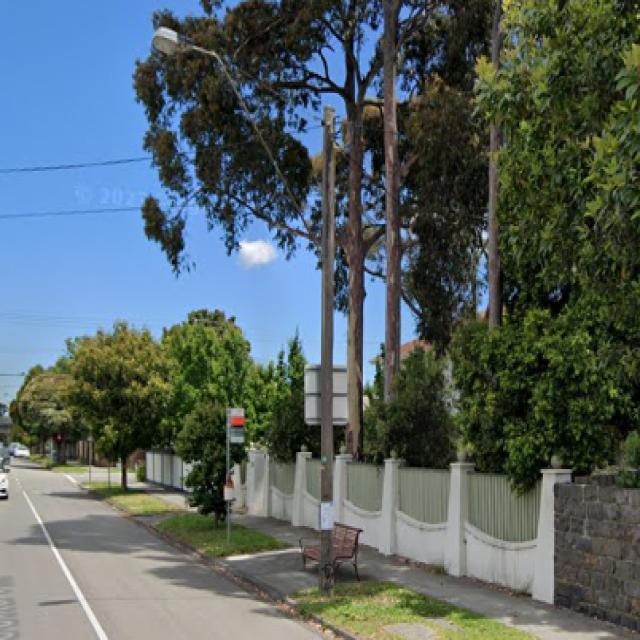streetlight: (150, 25, 322, 254)
timber-pole: (316, 104, 335, 598)
